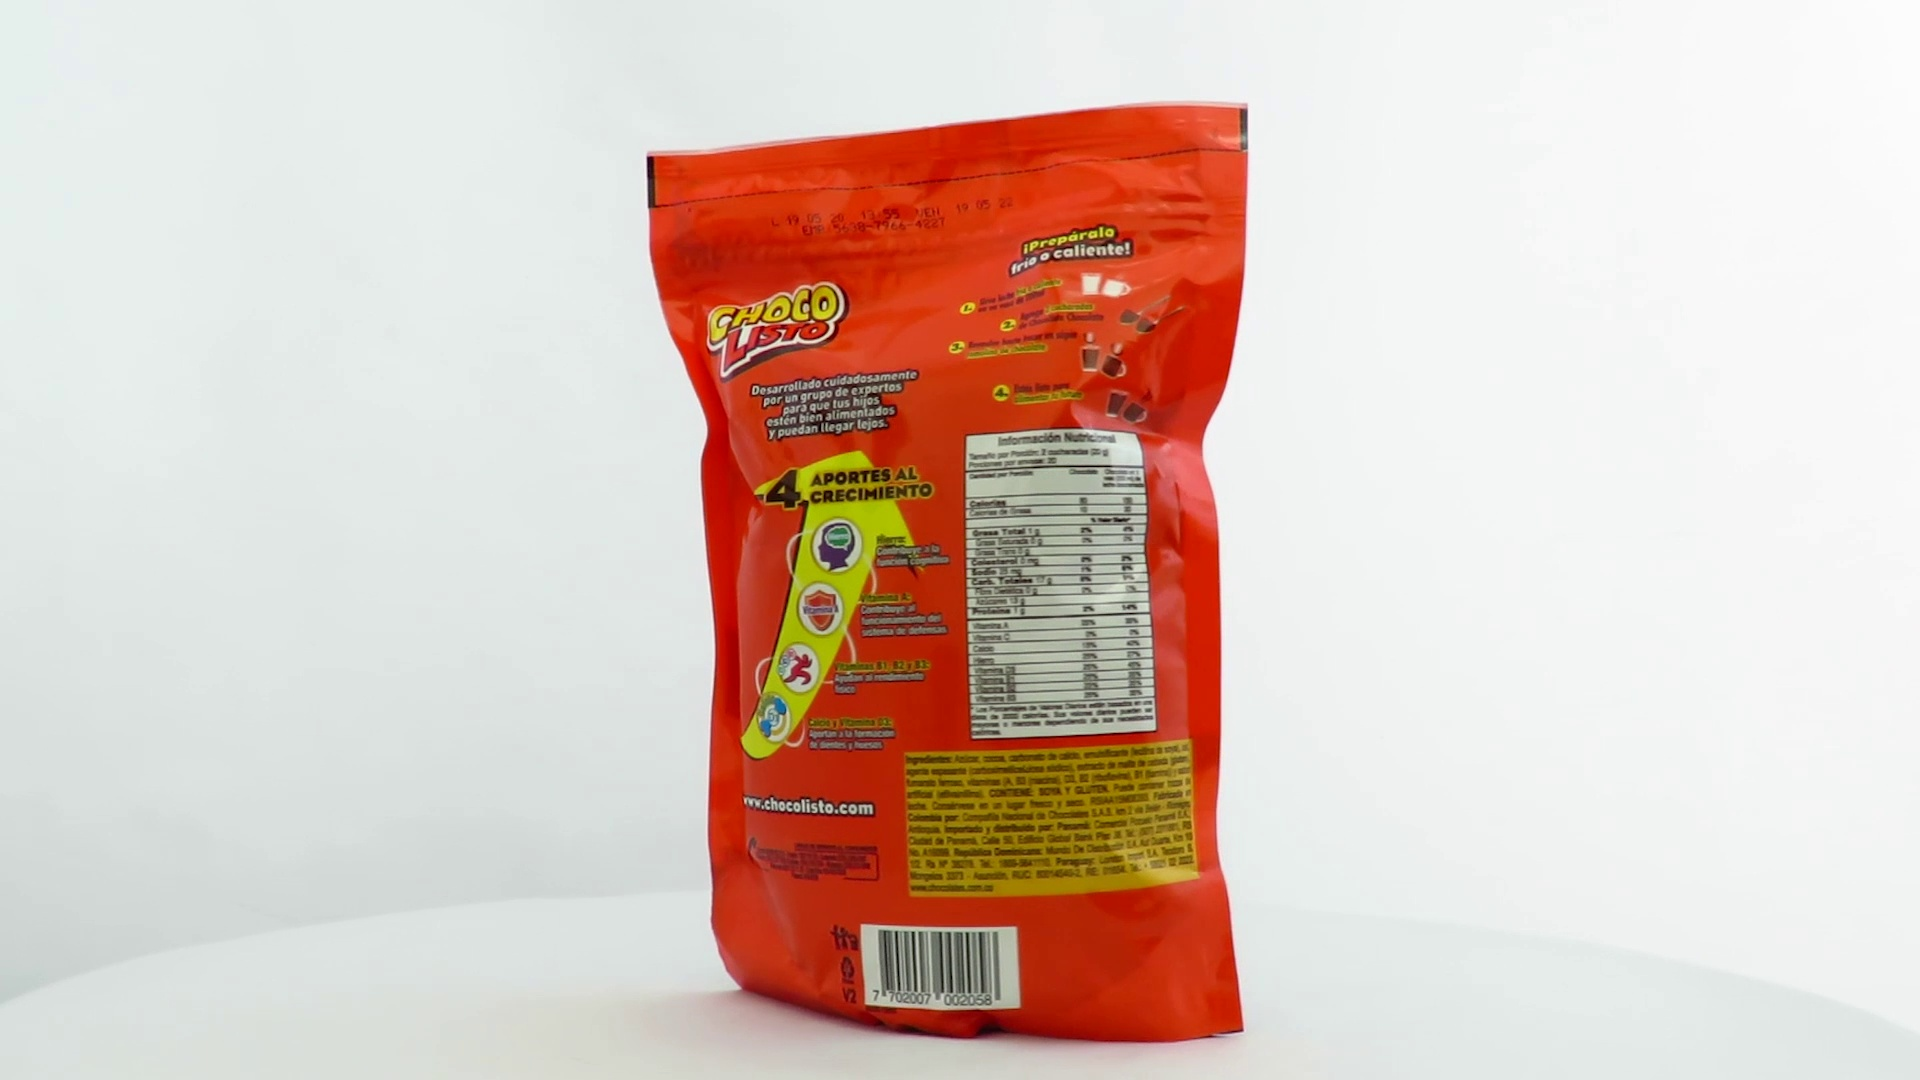COL0170103DYP40000: (641, 95, 1254, 1048)
